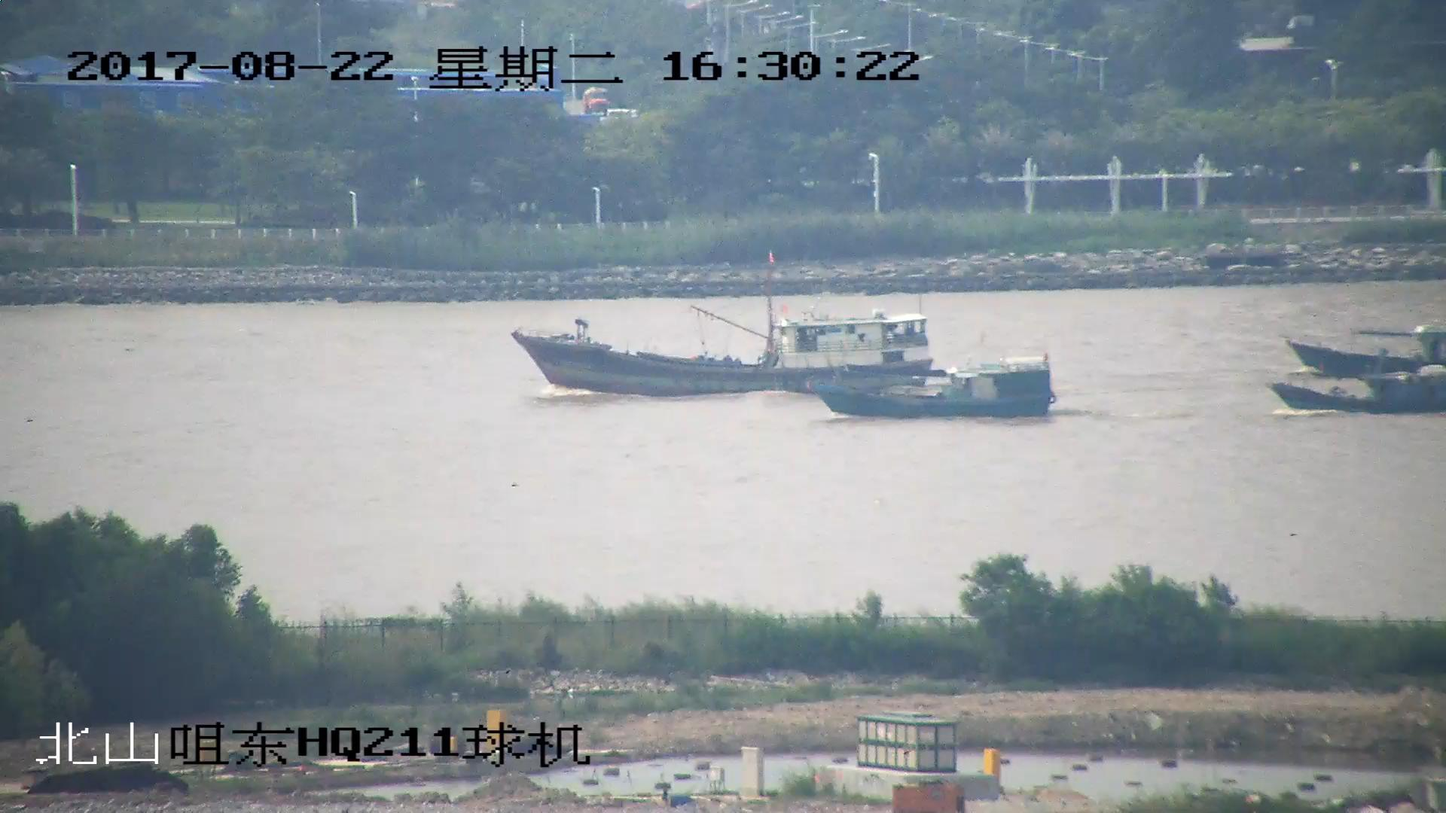fishing boat: (514, 256, 928, 394), (810, 358, 1055, 422), (1286, 318, 1445, 379), (1273, 367, 1445, 415)
